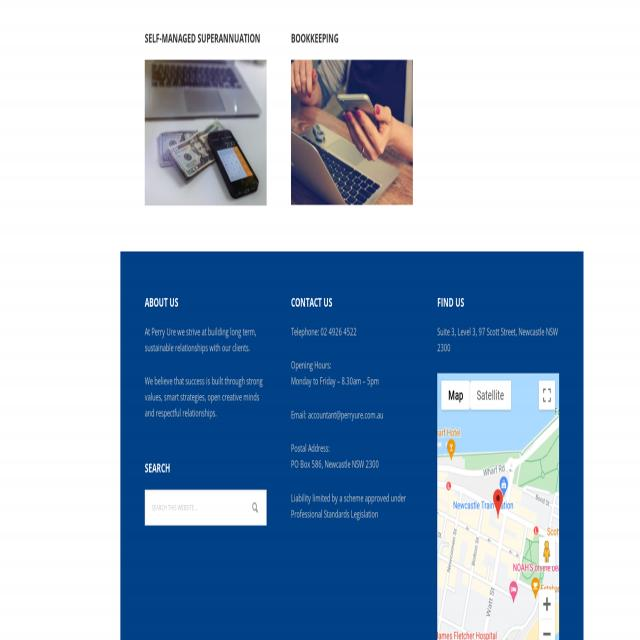button: (291, 60, 413, 206), (145, 60, 267, 206), (470, 381, 511, 410), (442, 381, 470, 410), (538, 591, 556, 618), (538, 536, 554, 566), (539, 380, 555, 409), (492, 488, 503, 520), (538, 618, 554, 640)
field: (145, 489, 267, 525)
